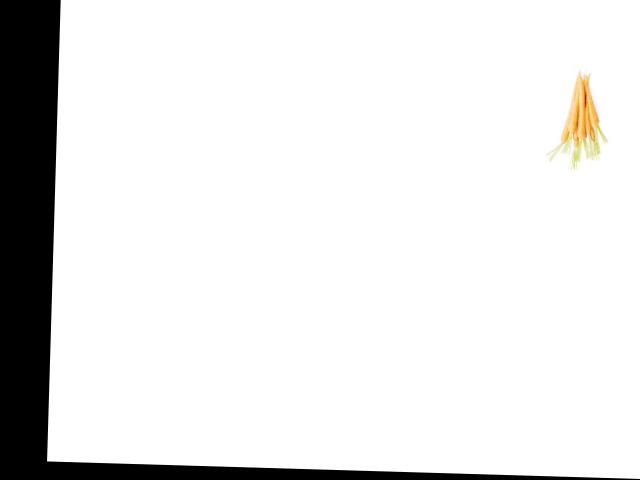carrot: (579, 77, 604, 130)
